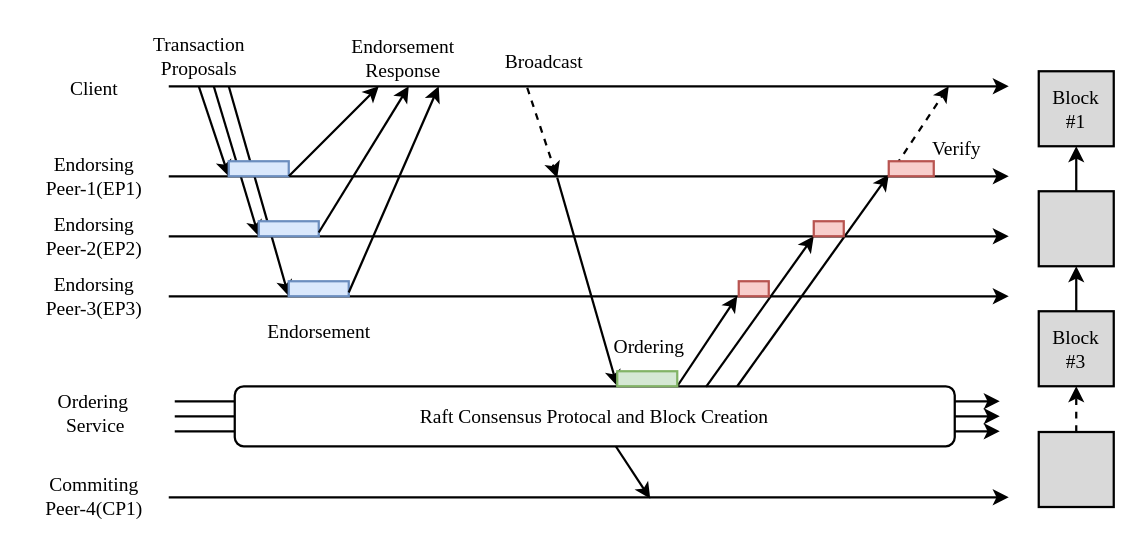
Image size: 1140x551. Some labels were removed from this diagram. Each missing label, with the box of its shape:
Block #2: (1037, 189, 1114, 267)
Block #n: (1037, 430, 1114, 507)
